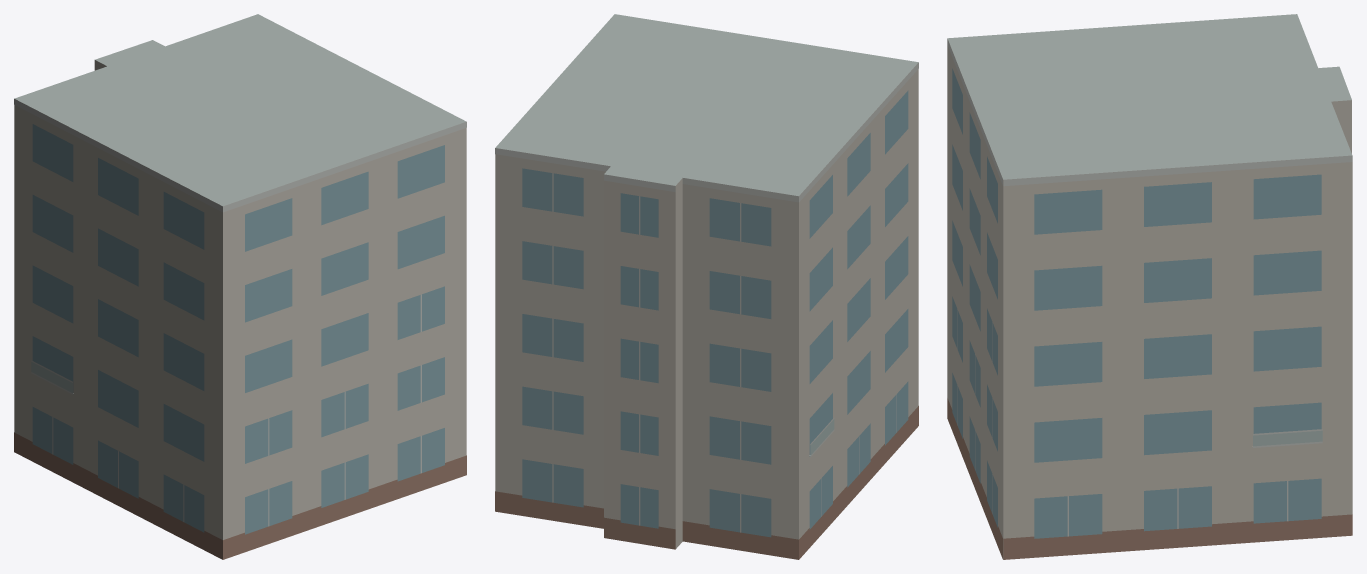
Rendered from survey-upis-32959614.glb.
3 views of the same model, side by side, from view 1: azimuth 30°, elevation 25°; view 2: azimuth 150°, elevation 25°; view 3: azimuth 270°, elevation 25° (orthographic). The views are drawn at different scales.
Visible parts, largest first — view 1: survey-upis-32959614.tmp; view 2: survey-upis-32959614.tmp; view 3: survey-upis-32959614.tmp.
Boxes of the visible parts, bbox=[...] form: survey-upis-32959614.tmp: bbox=[14, 14, 466, 559]; survey-upis-32959614.tmp: bbox=[495, 14, 918, 559]; survey-upis-32959614.tmp: bbox=[947, 14, 1352, 559].
Bounding box in the file's own units: 13.29 × 14.2 × 13.73.
